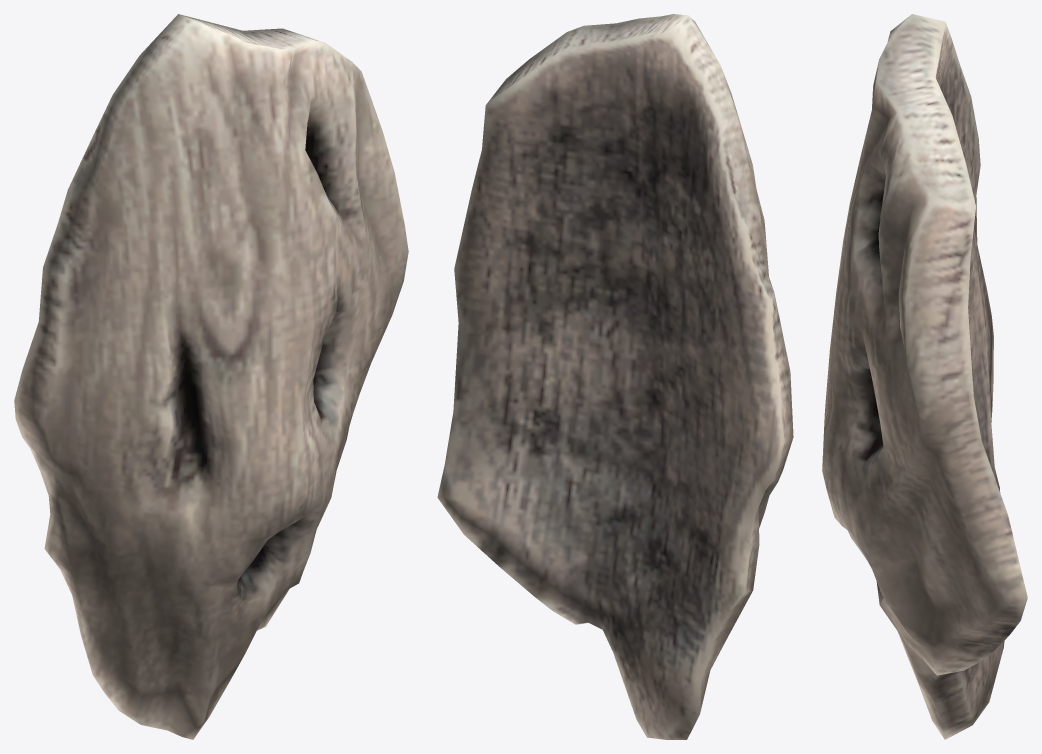
The model's file is CorruptVillagerMask_05.fbx.
3 views of the same model, side by side, from view 1: azimuth 30°, elevation 25°; view 2: azimuth 150°, elevation 25°; view 3: azimuth 270°, elevation 25° (orthographic). The views are drawn at different scales.
Parts seen in each view (by area): view 1: SM_CorruptVillager_Mask_06.mo; view 2: SM_CorruptVillager_Mask_06.mo; view 3: SM_CorruptVillager_Mask_06.mo.
Boxes of the visible parts, bbox=[...] form: SM_CorruptVillager_Mask_06.mo: bbox=[14, 14, 408, 739]; SM_CorruptVillager_Mask_06.mo: bbox=[437, 14, 793, 739]; SM_CorruptVillager_Mask_06.mo: bbox=[822, 14, 1027, 739].
Size of the model in its own units: 18.51 by 36.64 by 9.51.
1 material, 1 textured.
